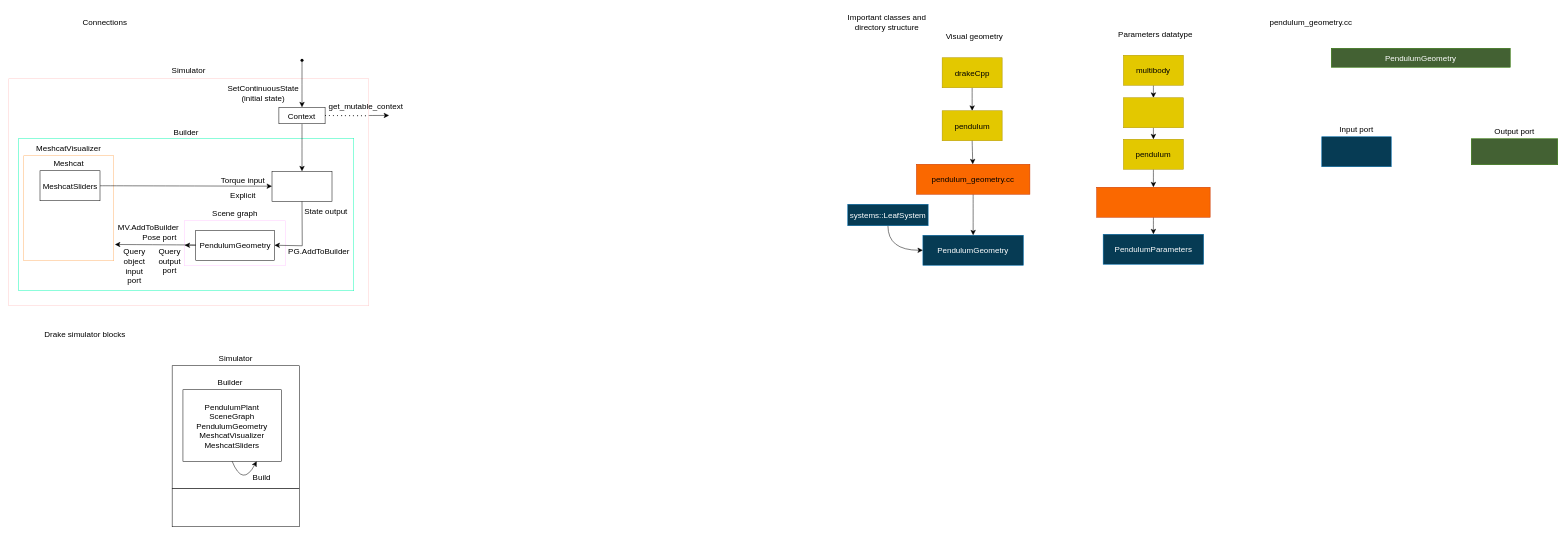
This 1567x536 diagram has some shape labels left out. Each missing label, with the centre of its shape:
benchmarks: point 1153,112
make_pendulum_plant.h: point 1153,202
OutputGeometryPose: point 1514,151
PendulumPlant (PP): point 302,186
PendulumState: point 1356,151
set_target_realtime_rate AdvanceTo: point 236,507
